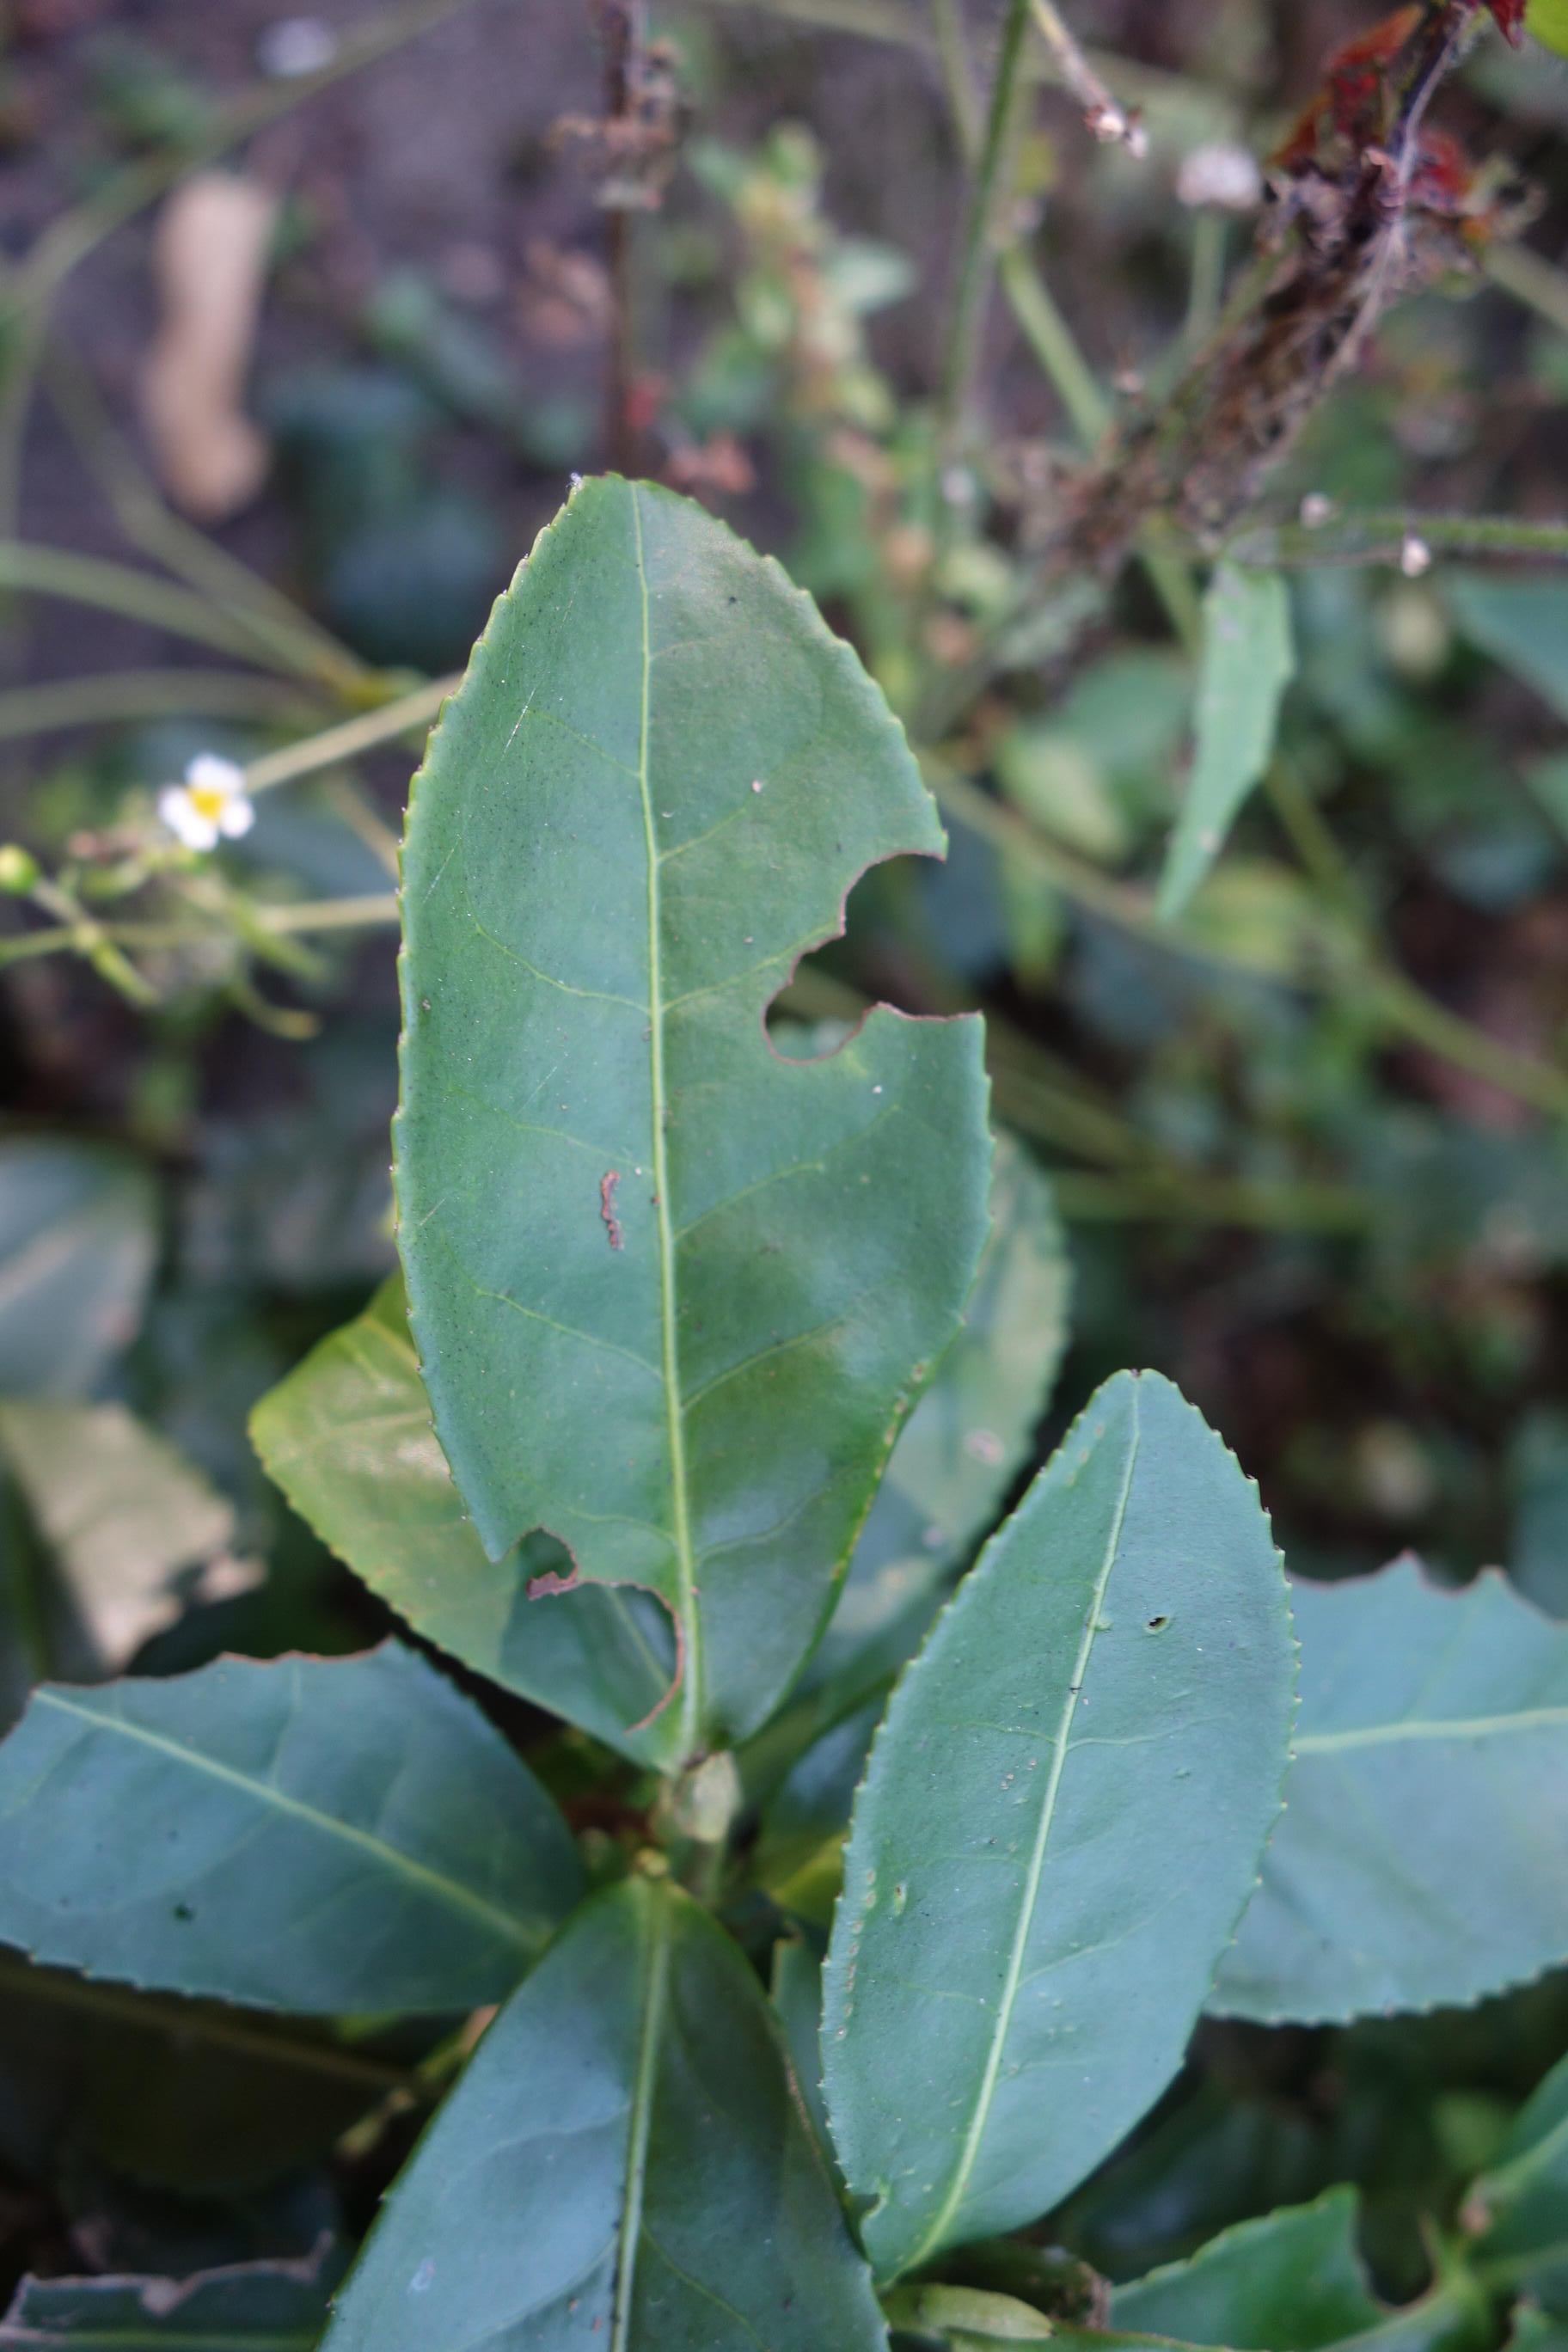chihuo_high: (387, 476, 994, 1781), (7, 1634, 548, 2018)
